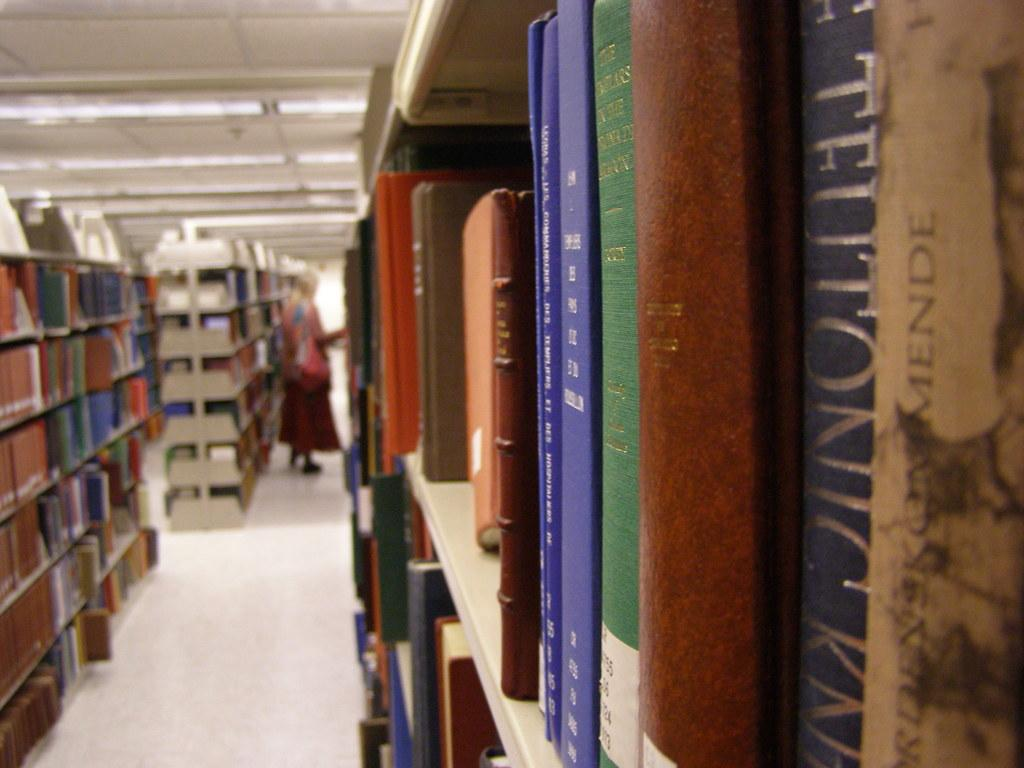Luggage-and-bags: (345, 1, 1020, 766)
